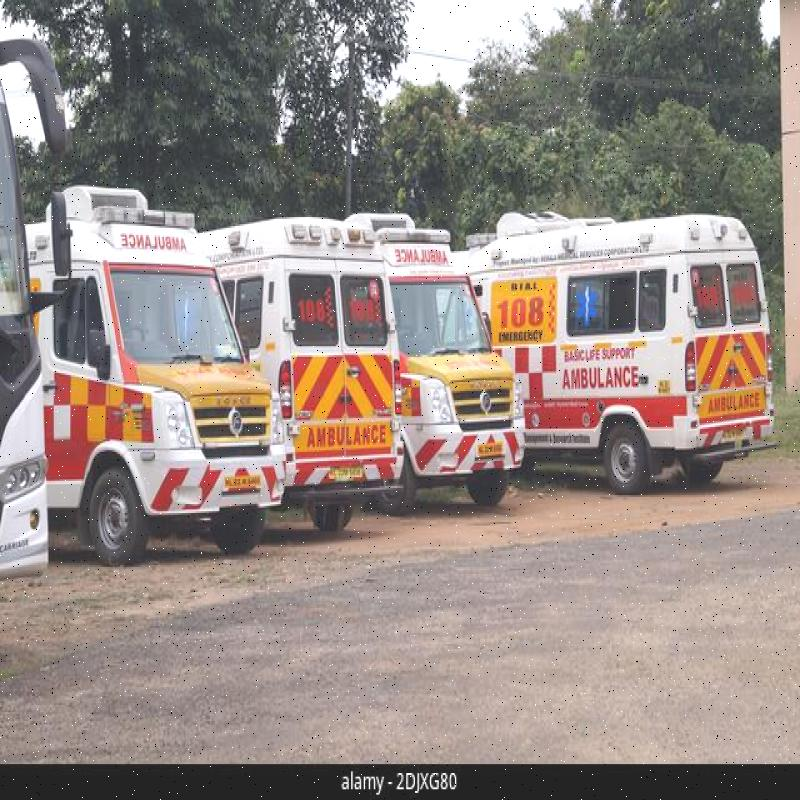ambulance: (491, 209, 783, 483), (66, 187, 284, 551)
